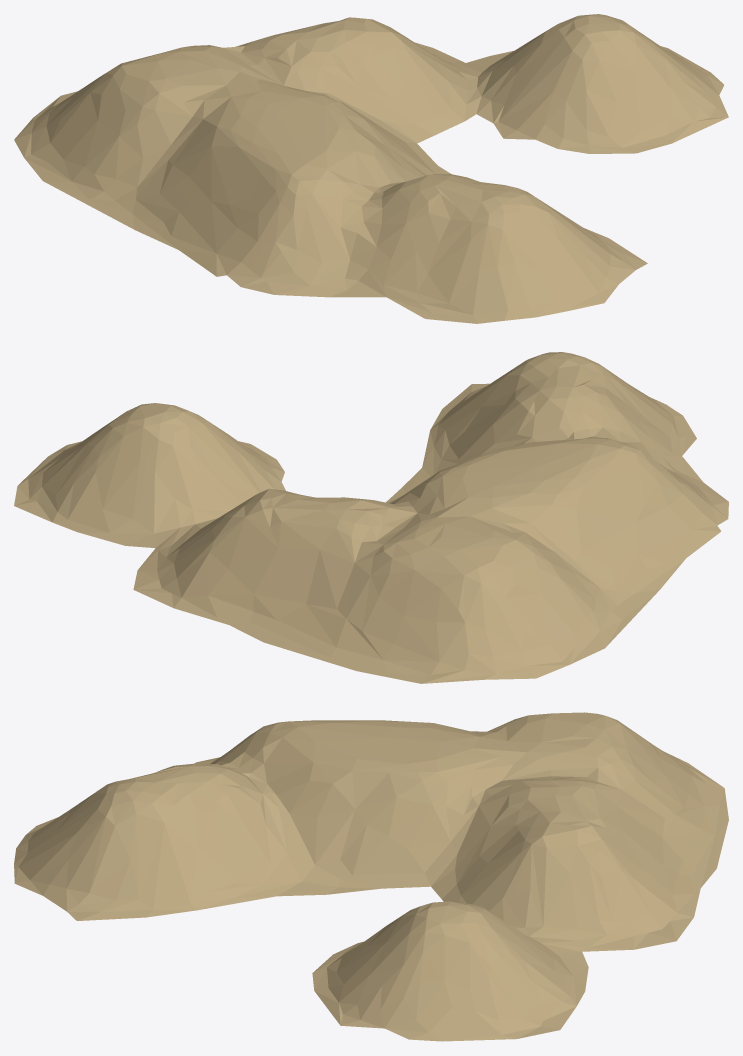
File: SOP_Island_03.fbx
The picture shows the model from 3 angles, top to bottom: view 1: azimuth 30°, elevation 25°; view 2: azimuth 150°, elevation 25°; view 3: azimuth 270°, elevation 25°; orthographic projection.
Parts seen in each view (by area): view 1: Island_03; view 2: Island_03; view 3: Island_03.
Boxes of the visible parts, x1,y1,x2,y2 form: Island_03: (14, 14, 728, 323); Island_03: (14, 352, 728, 683); Island_03: (14, 712, 728, 1041).
Bounding box in the file's own units: 29.85 × 3.67 × 29.72.
